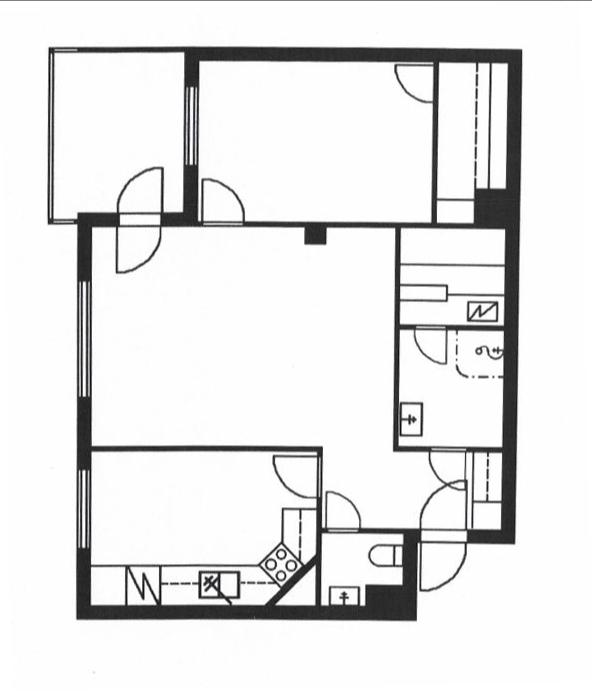door: (111, 212, 166, 280), (417, 530, 472, 596), (416, 478, 471, 543), (115, 162, 167, 224), (269, 451, 328, 497), (202, 174, 250, 226), (392, 59, 440, 103), (426, 444, 470, 492), (322, 487, 363, 534), (411, 323, 452, 364)
window: (72, 272, 94, 406), (70, 460, 98, 560), (179, 80, 202, 170)
